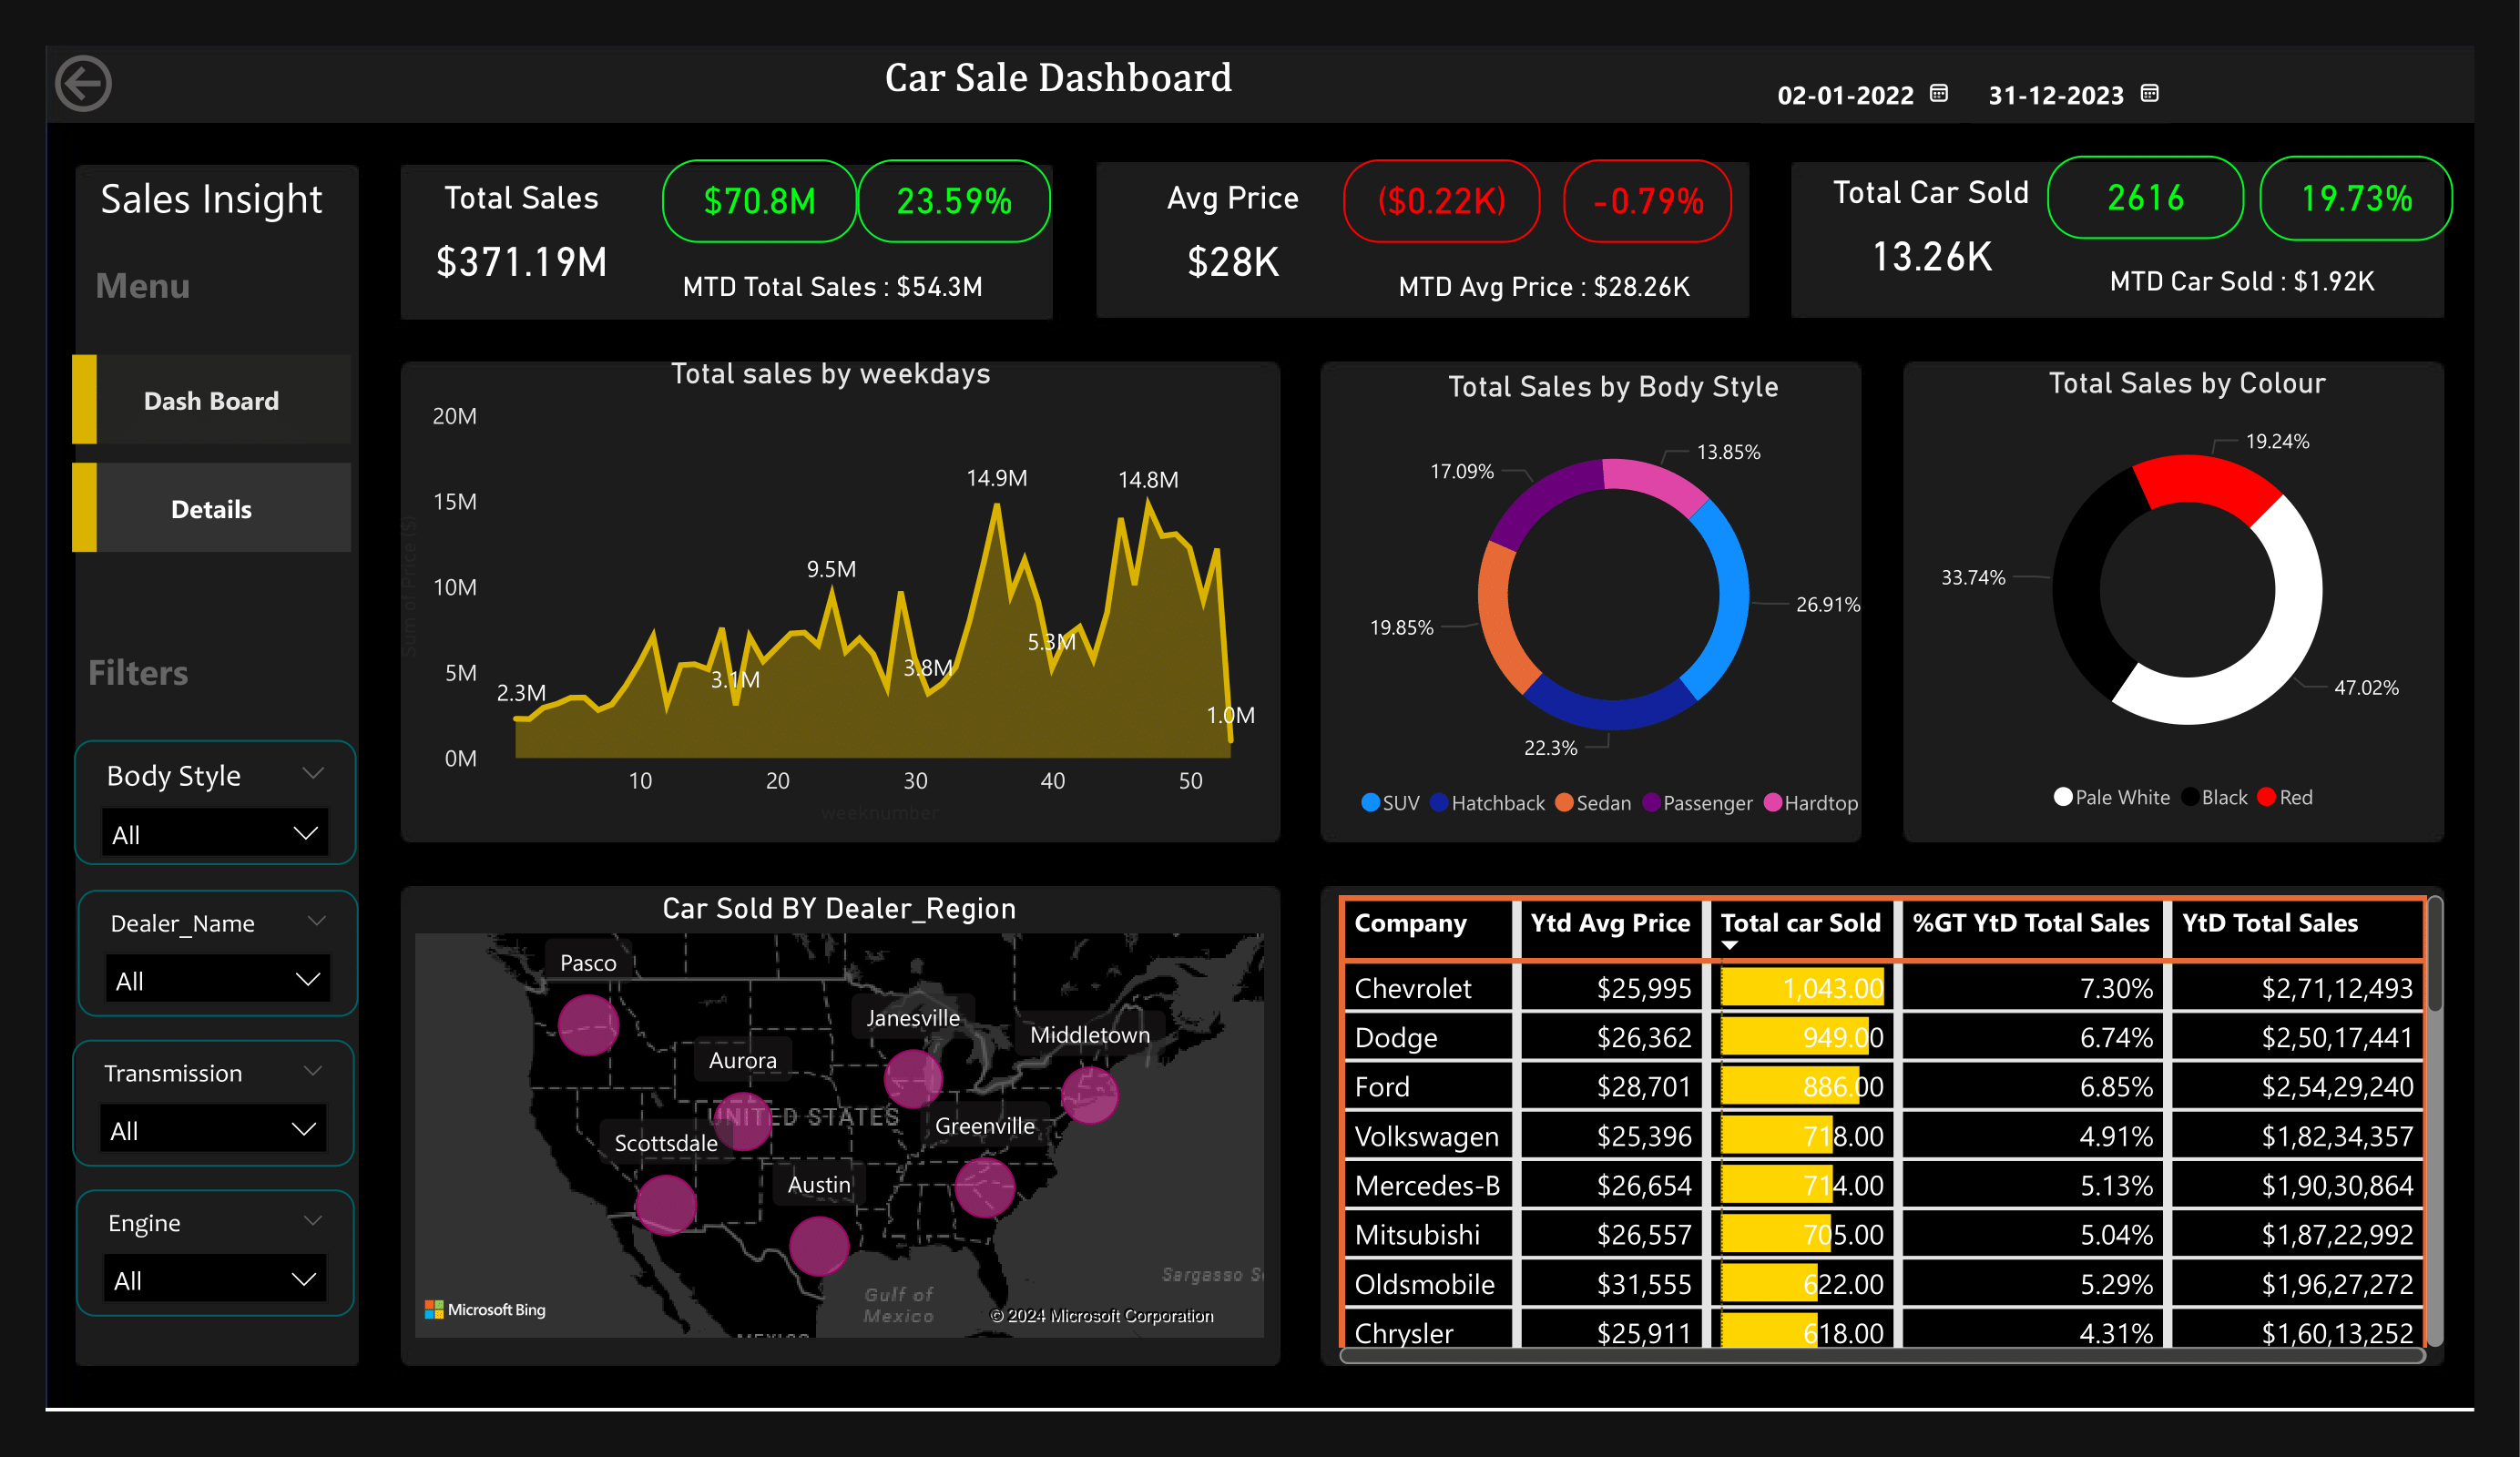

This screenshot's page, from the dashboard's own definition file:
{"tool":"powerbi","page":{"name":"Dash Board","canvas":[1280,720],"ordinal":0},"visuals":[{"type":"group","id":"g1","title":"Group 1","box":[177.4,59.6,353.4,92.3],"z":0},{"type":"card","title":"Total Car Sold","fields":{"Values":["car_data.Total car Sold"]},"box":[919.8,66.9,147.6,68.1],"z":0,"group":"g3"},{"type":"card","title":"Total Sales","fields":{"Values":["car_data.YtD Total Sales"]},"box":[177.4,69.5,147.6,68.1],"z":0,"group":"g1"},{"type":"card","title":"Avg Price","fields":{"Values":["car_data.Ytd Avg Price"]},"box":[552.1,69.5,147.6,68.1],"z":0,"group":"g2"},{"type":"card","title":"Sales Diff.%","fields":{"Values":["car_data.Yoy Car Sold"]},"box":[1166.6,58.2,102.3,44.2],"z":1000,"group":"g3"},{"type":"card","title":"Sales Diff.%","fields":{"Values":["car_data.Yoy Growth sales"]},"box":[428.6,59.6,102.2,44],"z":1000,"group":"g1"},{"type":"group","id":"g2","title":"Group 1","box":[552.1,60,353.4,91.9],"z":1000},{"type":"card","fields":{"Values":["car_data.Yoy Avg Price"]},"box":[799.6,60,89.5,44.2],"z":1000,"group":"g2"},{"type":"group","id":"g3","title":"Group 1","box":[919.8,57.8,353.4,91.4],"z":2000},{"type":"card","title":"YoY Growth","fields":{"Values":["car_data.Car Sold Diff"]},"box":[1055,57.8,103.5,44.2],"z":2000,"group":"g3"},{"type":"card","title":"YoY Growth","fields":{"Values":["car_data.Yoy Total Sales Growth"]},"box":[325,59.6,103.6,44],"z":2000,"group":"g1"},{"type":"card","title":"YoY Growth","fields":{"Values":["car_data.Total Avg price Diff"]},"box":[684.5,60.1,103.5,44.2],"z":2000,"group":"g2"},{"type":"actionButton","box":[0,0,100,40],"z":3000},{"type":"card","title":"Total Sales","fields":{"Values":["car_data.Month To date  Car Sold With Text"]},"box":[1043.3,101,229.9,48.3],"z":3000,"group":"g3"},{"type":"card","title":"Total Sales","fields":{"Values":["car_data.Month To date With Text"]},"box":[300.9,103.6,229.9,48.3],"z":3000,"group":"g1"},{"type":"card","title":"Total Sales","fields":{"Values":["car_data.Month To date  avg sales With Text"]},"box":[675.6,103.6,229.9,48.3],"z":3000,"group":"g2"},{"type":"areaChart","title":"Total sales by weekdays","fields":{"Category":["Calender Table.weeknumber"],"Y":["Sum(car_data.Price ($))"]},"box":[180.6,163.4,466.9,251.9],"z":4000},{"type":"donutChart","title":"Total Sales by Body Style","fields":{"Category":["car_data.Body Style"],"Y":["car_data.YtD Total Sales"]},"box":[675.8,169.6,301,247],"z":5000},{"type":"donutChart","title":"Total Sales by Colour","fields":{"Y":["car_data.YtD Total Sales"],"Category":["car_data.Color"]},"box":[979.2,168.3,300,246],"z":6000},{"type":"tableEx","title":"Company wise Sales Trend","fields":{"Values":["car_data.Company","car_data.Ytd Avg Price","car_data.Total car Sold","car_data.YtD Total Sales","car_data.YtD Total Sales1"]},"box":[675.6,443,593,257],"z":7000},{"type":"slicer","fields":{"Values":["car_data.Body Style"]},"box":[15.5,366.1,148.7,66.3],"z":8000},{"type":"slicer","fields":{"Values":["car_data.Dealer_Name"]},"box":[16.7,445.2,148.7,66.3],"z":9000},{"type":"slicer","fields":{"Values":["car_data.Transmission"]},"box":[14.3,524.4,148.7,66.3],"z":10000},{"type":"slicer","fields":{"Values":["car_data.Engine"]},"box":[16,603.5,147.4,66.3],"z":11000},{"type":"textbox","box":[352.6,0,362.5,40.5],"z":12000},{"type":"pageNavigator","box":[13.5,163.4,147.4,103.2],"z":13000},{"type":"slicer","fields":{"Values":["Calender Table.Date"]},"box":[890.8,0,326.8,40.5],"z":14000},{"type":"textbox","box":[13.5,60.2,147.4,45.5],"z":15000},{"type":"textbox","box":[20.9,108.1,137.6,38.1],"z":16000},{"type":"textbox","box":[17.2,312.1,141.3,36.9],"z":17000},{"type":"map","title":"Car Sold BY Dealer_Region","fields":{"Size":["car_data.Yoy Car Sold"],"Category":["car_data.Dealer_Region"]},"box":[190.4,444.8,457.1,240.8],"z":18000}]}

Visuals, with their boxes on the page's 1280x720 design canvas (x1, y1, x2, y2). These are canvas units, not pixel positions in the 2520x1457 screenshot, which may show the page scaled, cropped or inside an application window:
"Group 1" group: {"left": 177, "top": 60, "right": 531, "bottom": 152}
"Total Car Sold" card: {"left": 920, "top": 67, "right": 1067, "bottom": 135}
"Total Sales" card: {"left": 177, "top": 70, "right": 325, "bottom": 138}
"Avg Price" card: {"left": 552, "top": 70, "right": 700, "bottom": 138}
"Sales Diff.%" card: {"left": 1167, "top": 58, "right": 1269, "bottom": 102}
"Sales Diff.%" card: {"left": 429, "top": 60, "right": 531, "bottom": 104}
"Group 1" group: {"left": 552, "top": 60, "right": 906, "bottom": 152}
card - car_data.Yoy Avg Price: {"left": 800, "top": 60, "right": 889, "bottom": 104}
"Group 1" group: {"left": 920, "top": 58, "right": 1273, "bottom": 149}
"YoY Growth" card: {"left": 1055, "top": 58, "right": 1158, "bottom": 102}
"YoY Growth" card: {"left": 325, "top": 60, "right": 429, "bottom": 104}
"YoY Growth" card: {"left": 684, "top": 60, "right": 788, "bottom": 104}
actionButton: {"left": 0, "top": 0, "right": 100, "bottom": 40}
"Total Sales" card: {"left": 1043, "top": 101, "right": 1273, "bottom": 149}
"Total Sales" card: {"left": 301, "top": 104, "right": 531, "bottom": 152}
"Total Sales" card: {"left": 676, "top": 104, "right": 906, "bottom": 152}
"Total sales by weekdays" areaChart: {"left": 181, "top": 163, "right": 648, "bottom": 415}
"Total Sales by Body Style" donutChart: {"left": 676, "top": 170, "right": 977, "bottom": 417}
"Total Sales by Colour" donutChart: {"left": 979, "top": 168, "right": 1279, "bottom": 414}
"Company wise Sales Trend" tableEx: {"left": 676, "top": 443, "right": 1269, "bottom": 700}
slicer - car_data.Body Style: {"left": 16, "top": 366, "right": 164, "bottom": 432}
slicer - car_data.Dealer_Name: {"left": 17, "top": 445, "right": 165, "bottom": 512}
slicer - car_data.Transmission: {"left": 14, "top": 524, "right": 163, "bottom": 591}
slicer - car_data.Engine: {"left": 16, "top": 604, "right": 163, "bottom": 670}
textbox: {"left": 353, "top": 0, "right": 715, "bottom": 40}
pageNavigator: {"left": 14, "top": 163, "right": 161, "bottom": 267}
slicer - Calender Table.Date: {"left": 891, "top": 0, "right": 1218, "bottom": 40}
textbox: {"left": 14, "top": 60, "right": 161, "bottom": 106}
textbox: {"left": 21, "top": 108, "right": 158, "bottom": 146}
textbox: {"left": 17, "top": 312, "right": 158, "bottom": 349}
"Car Sold BY Dealer_Region" map: {"left": 190, "top": 445, "right": 648, "bottom": 686}
